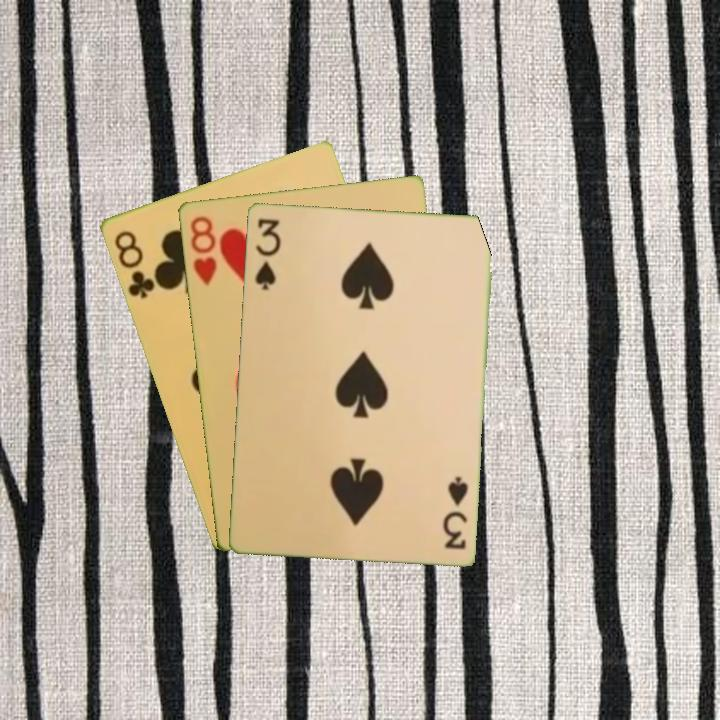3s: (438, 472, 471, 552), (251, 214, 284, 293)
8c: (110, 226, 158, 302)
8h: (186, 212, 219, 289)
